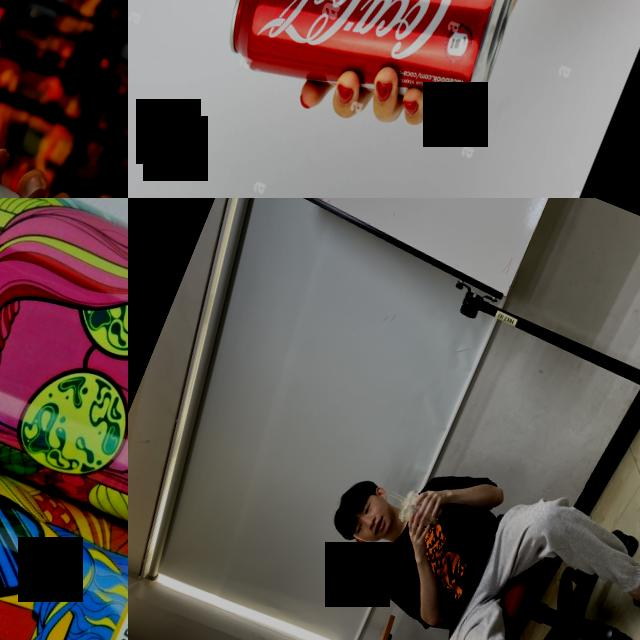can: (0, 198, 128, 622), (207, 0, 541, 157), (0, 401, 128, 640)
cup: (0, 119, 80, 198), (394, 486, 446, 534)
